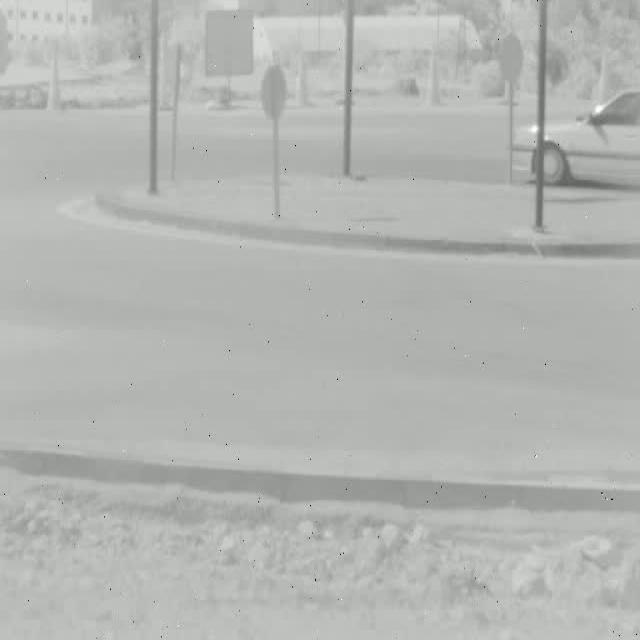Car: (508, 92, 640, 186)
